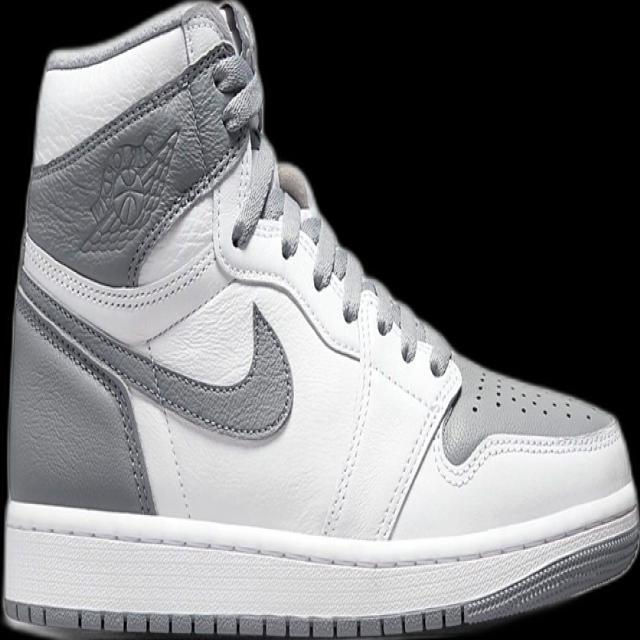J1_InsoleChar: (0, 0, 639, 639)
J1_StitchPattern: (1, 507, 638, 639), (31, 37, 259, 279), (14, 273, 294, 442), (273, 160, 451, 376), (318, 279, 459, 539), (13, 275, 158, 515), (4, 600, 466, 639), (19, 231, 217, 312), (319, 286, 379, 537), (373, 374, 463, 541), (75, 123, 184, 256), (467, 368, 598, 425)
